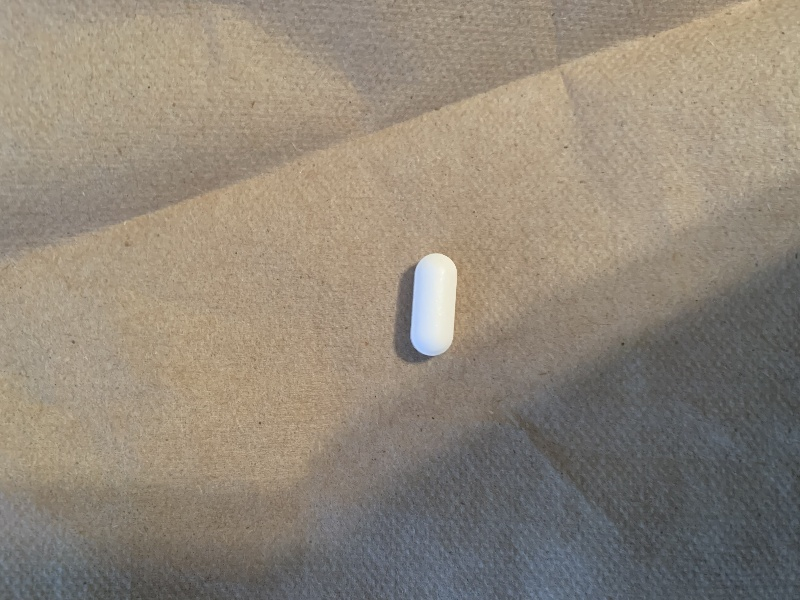Tylenol: (406, 250, 461, 360)
